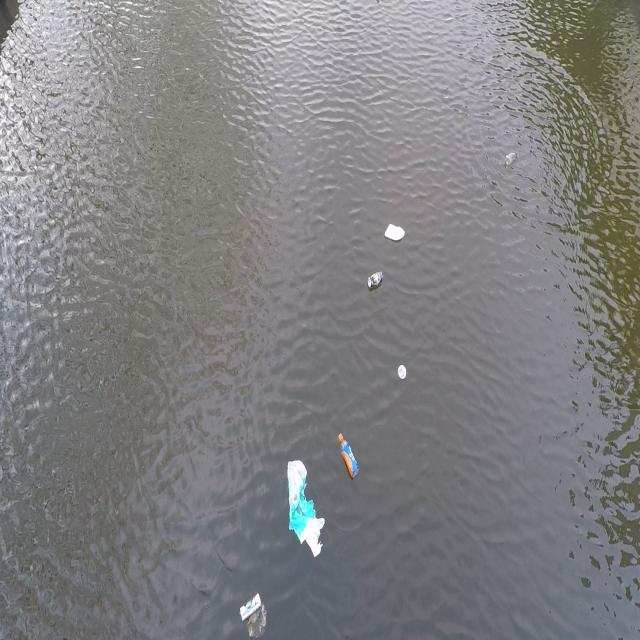Autre plastique: (382, 222, 407, 245)
Bouteille plastique: (336, 432, 366, 482), (504, 151, 517, 169)
Non plastique: (238, 592, 264, 621), (365, 269, 383, 295)
Sac plastique: (284, 458, 329, 558)
